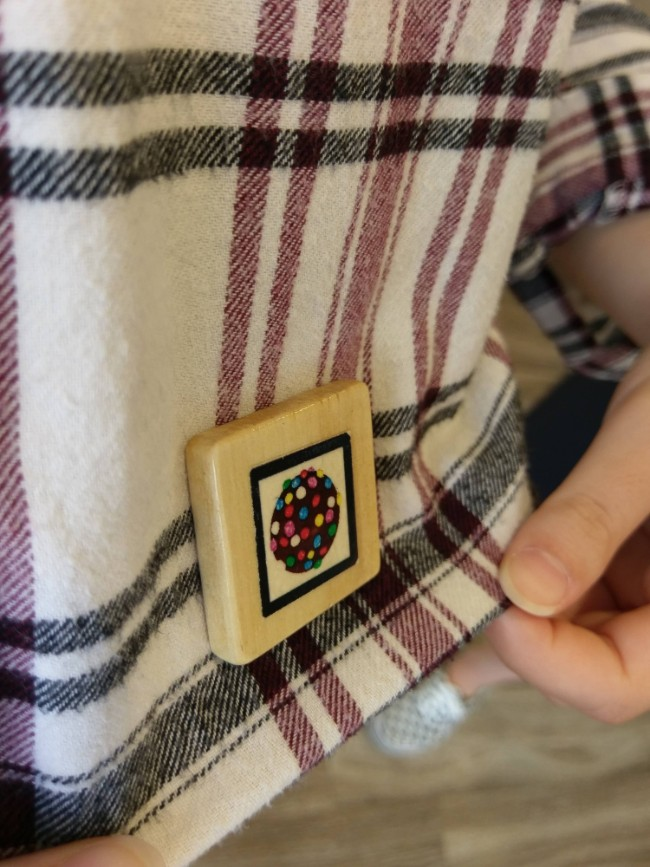cookie: (239, 429, 370, 629)
